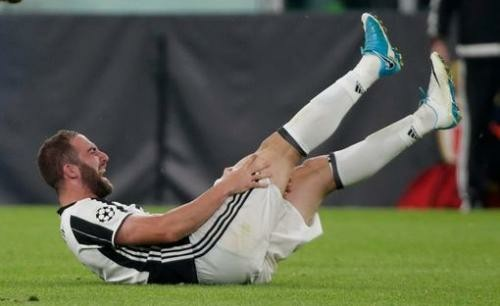falling: (32, 11, 468, 292)
